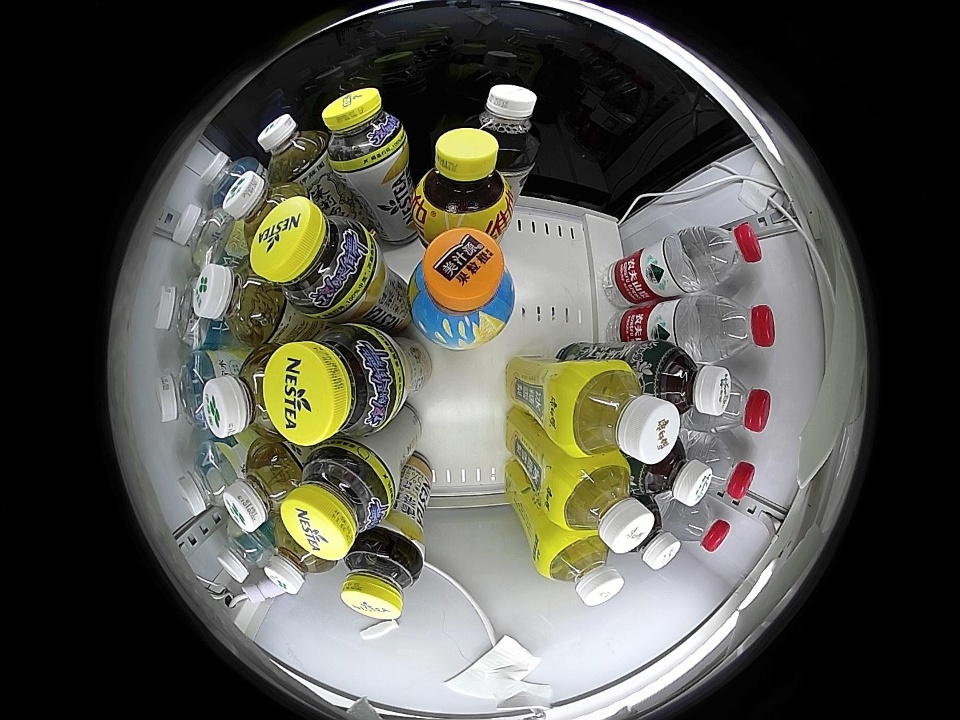baicha: (193, 264, 286, 349), (204, 344, 284, 439), (222, 439, 300, 532), (222, 170, 305, 244), (258, 113, 328, 185), (263, 529, 335, 595)
bingtangxueli: (560, 360, 680, 464), (551, 456, 654, 553), (539, 533, 624, 607)
chacui: (262, 325, 401, 444), (250, 196, 379, 317), (280, 443, 395, 559), (322, 86, 408, 175), (340, 533, 423, 620)
guolicheng: (409, 229, 515, 348)
moliqingcha: (649, 342, 732, 416), (634, 439, 714, 506), (631, 497, 681, 570)
nongfushanquan: (702, 294, 776, 361), (689, 222, 763, 288), (707, 370, 772, 434), (698, 437, 756, 503), (670, 498, 731, 554)
qinningshui: (156, 352, 220, 430), (176, 441, 241, 515), (172, 203, 239, 267), (155, 280, 215, 350), (198, 151, 261, 205), (217, 525, 273, 584)
weitaningmeng-bottle: (413, 128, 512, 231)
wulongcha: (461, 82, 540, 164)
